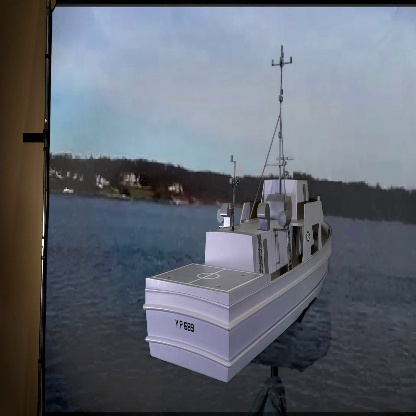YP689: (142, 44, 332, 377)
